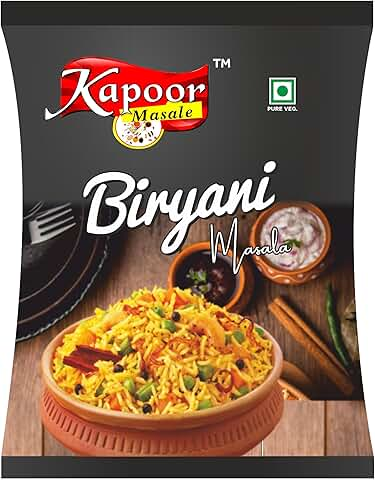Biryani: (2, 4, 375, 480)
